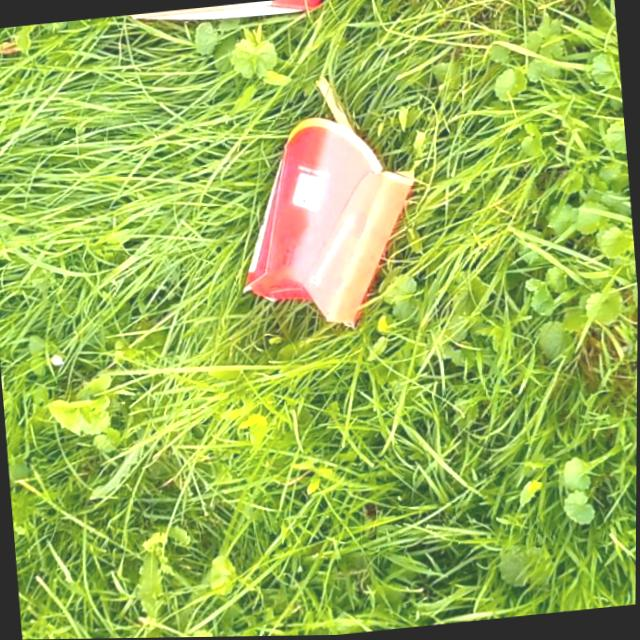Paper: (226, 105, 432, 341), (123, 0, 329, 34)
